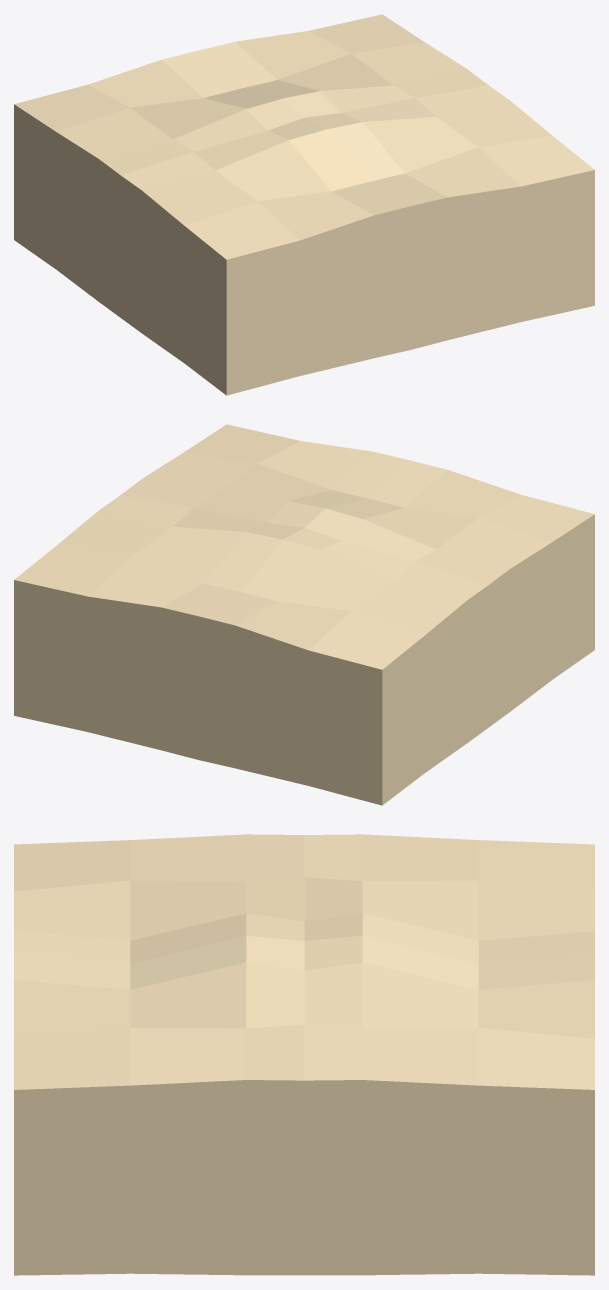
Rendered from kum_kup.fbx.
3 views of the same model, one above another, from view 1: azimuth 30°, elevation 25°; view 2: azimuth 150°, elevation 25°; view 3: azimuth 270°, elevation 25° (orthographic). The views are drawn at different scales.
Visible parts, largest first — view 1: Cube.040; view 2: Cube.040; view 3: Cube.040.
Part boxes in pixels (x1,y1,x2,y2): Cube.040: (14,14,594,395); Cube.040: (14,424,594,805); Cube.040: (14,834,594,1275).
Size of the model in its own units: 200 by 82.42 by 200.
